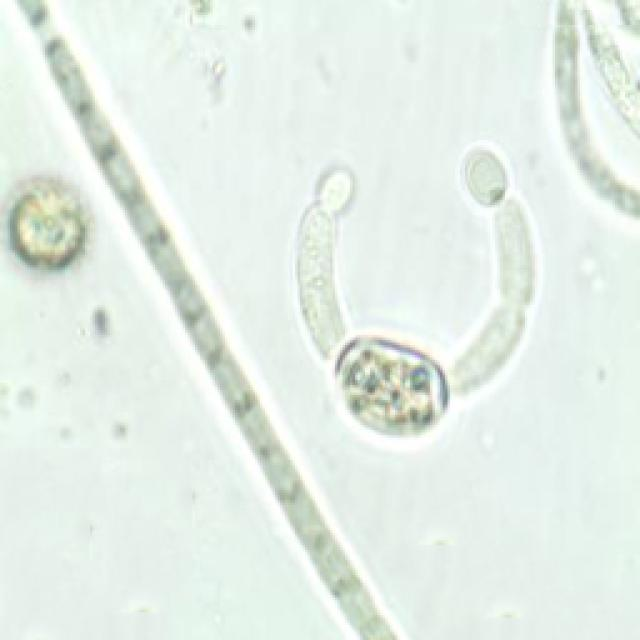Anabaena: (295, 141, 543, 446)
